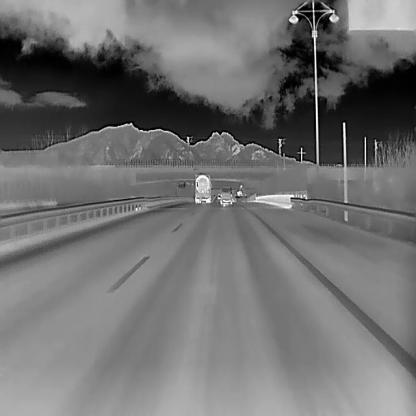car: (221, 185, 231, 205), (216, 191, 221, 198)
truck: (193, 172, 211, 203)
